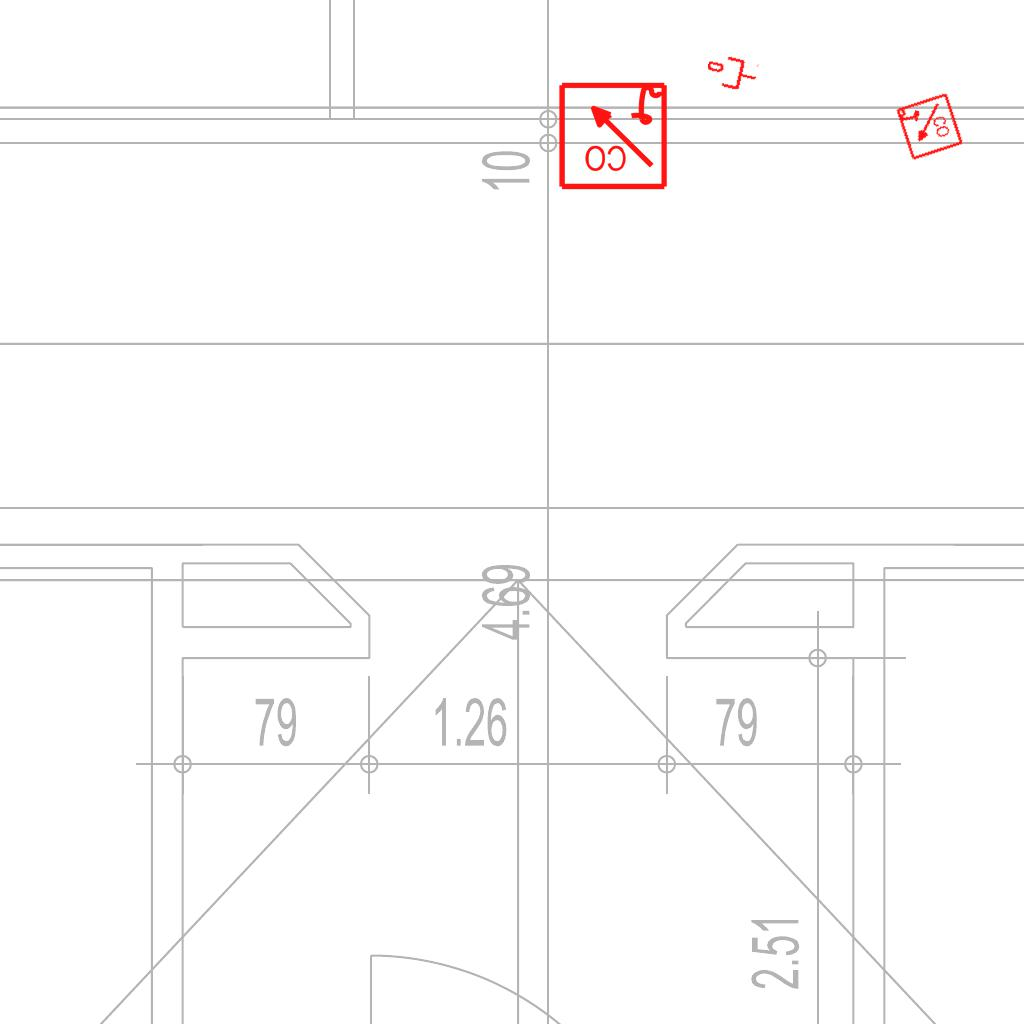Datenanschluss_einfach: (703, 50, 761, 96)
ROA_Rauchmelder_optisch_mit_Signalgeber_(Sockelsirene): (556, 78, 669, 191), (893, 91, 965, 163)
